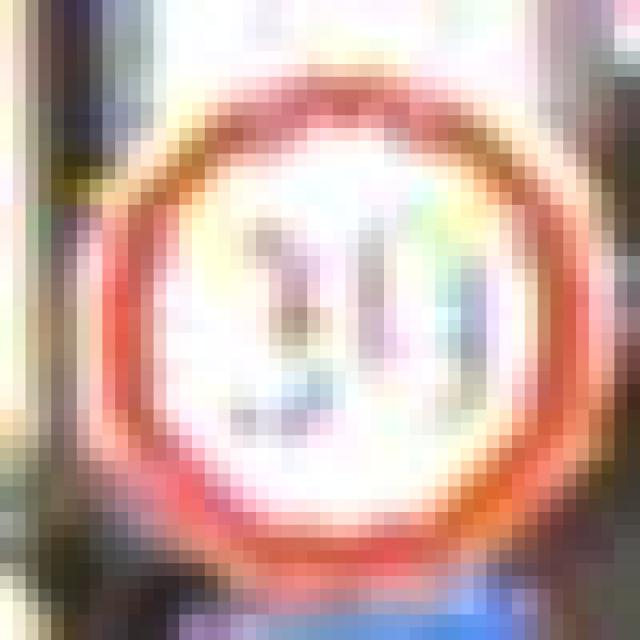SPEED_LIMIT_30: (51, 51, 602, 602)
